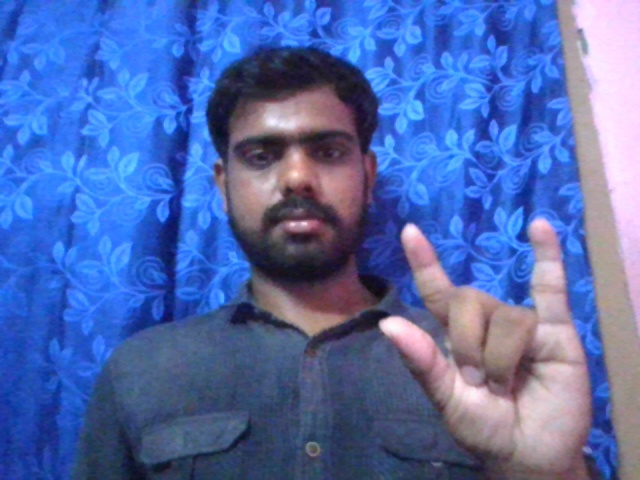IloveYou: (372, 212, 598, 472)
